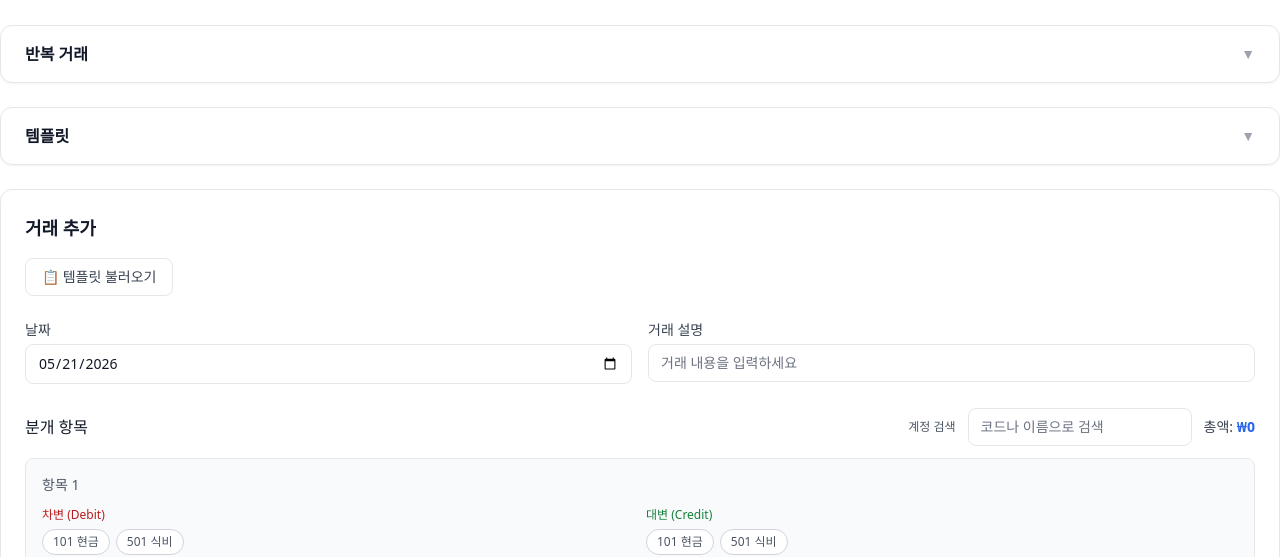
Test: TemplatesTab (템플릿 탭) › 다중 항목 템플릿에 항목 수 배지를 표시한다
The width and height of the screenshot is (1280, 557).
Click the button "템플릿 ▼": (47, 136) left=1, top=108, right=1279, bottom=164
(page scrolled)
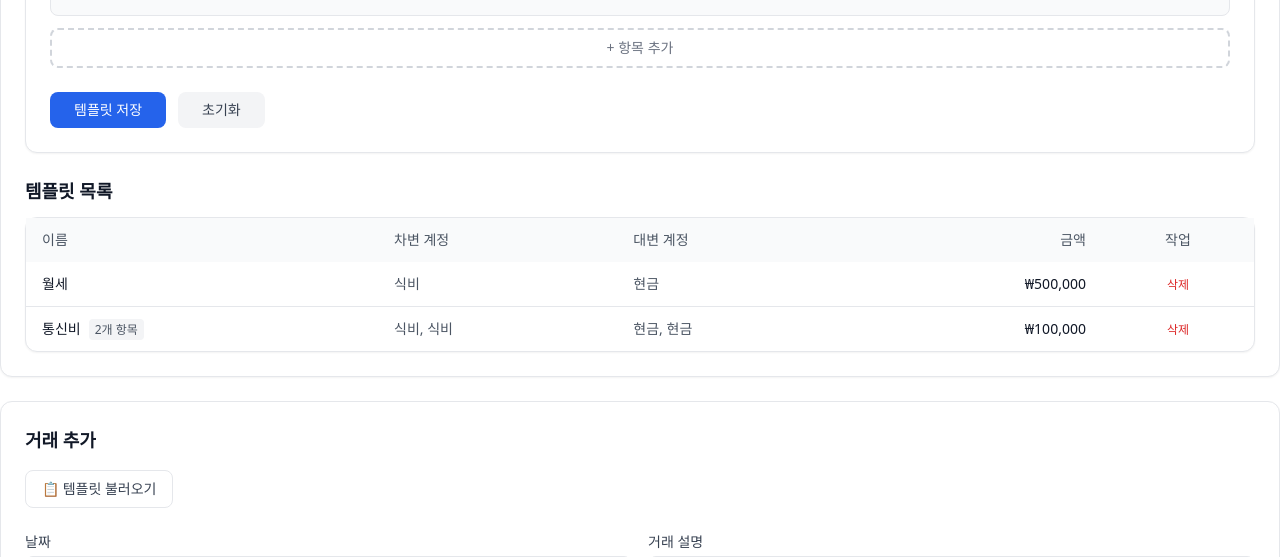
Check: the text "2개 항목" is shown, box left=89, top=319, right=144, bottom=340
